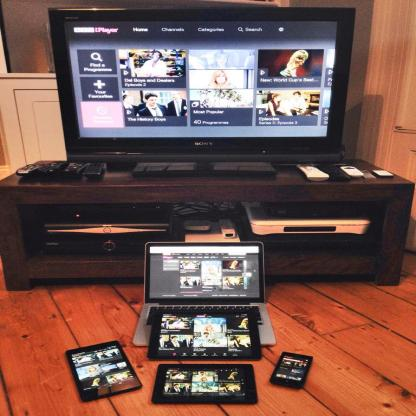board: (129, 242, 276, 347)
